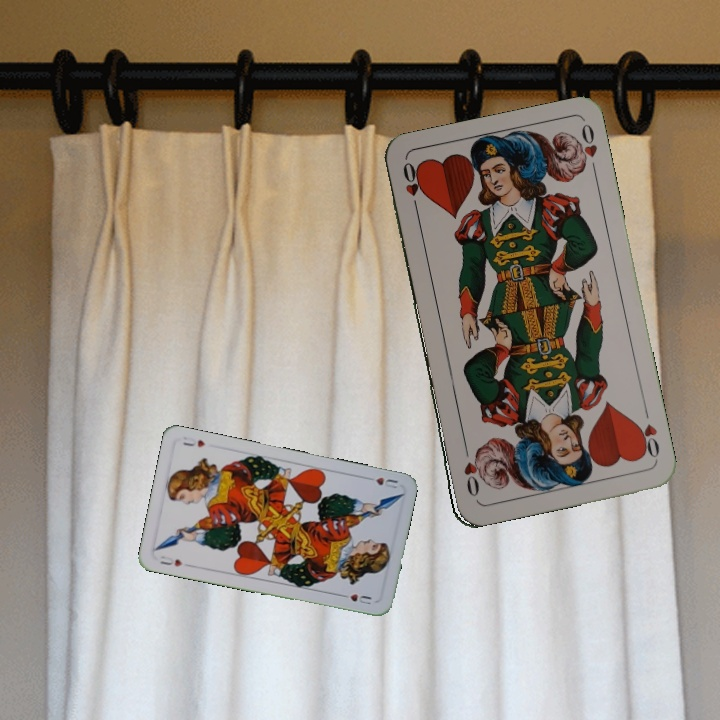HO: (632, 404, 662, 462), (398, 158, 422, 217)
HU: (361, 473, 401, 491), (156, 552, 185, 569)
